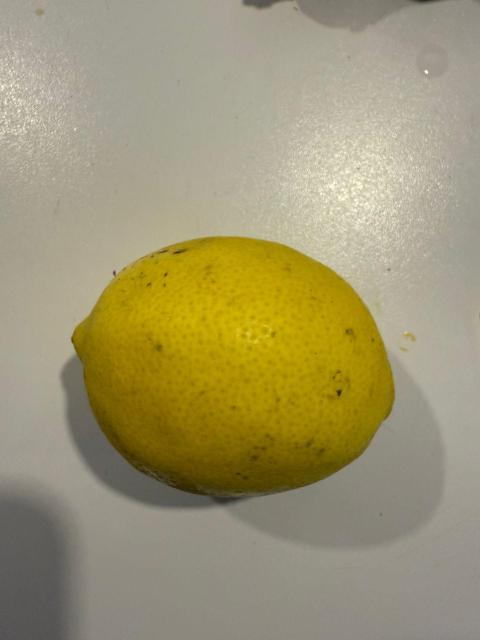Organik: (68, 231, 404, 500)
